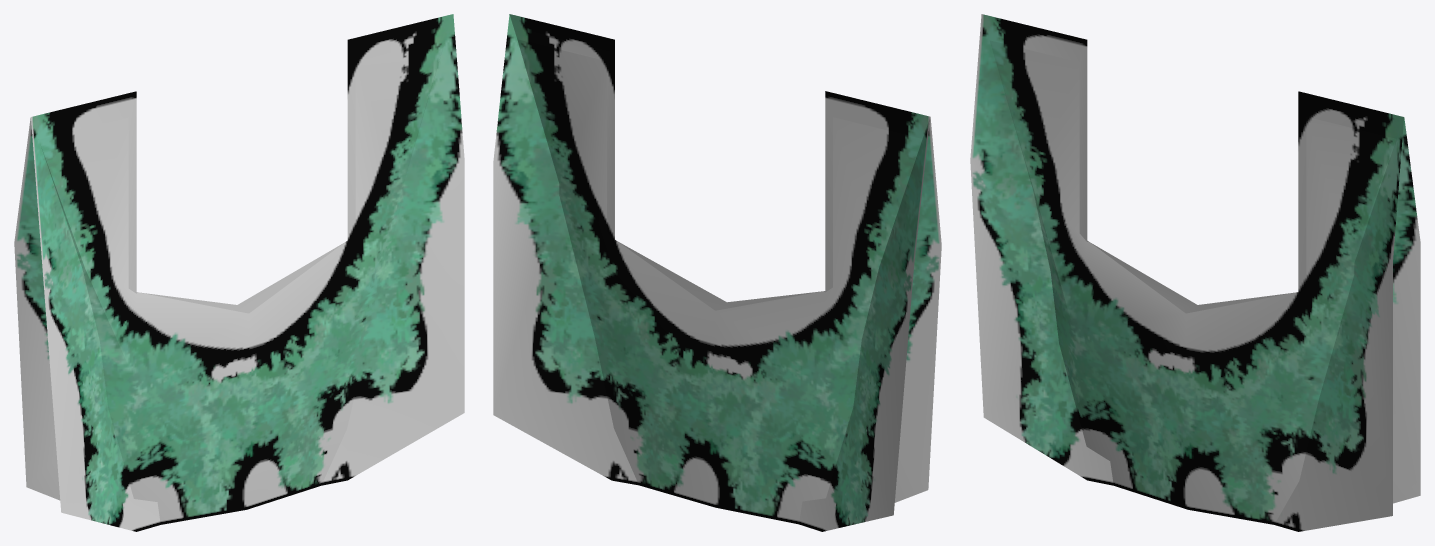
File: SM_ENV_plant_ancient_18_01.fbx
The picture shows the model from 3 angles, left to right: view 1: azimuth 30°, elevation 25°; view 2: azimuth 150°, elevation 25°; view 3: azimuth 330°, elevation 25°; orthographic projection.
Visible parts, largest first — view 1: SM_ENV_plant_ancient_18_01_LOD0; view 2: SM_ENV_plant_ancient_18_01_LOD0; view 3: SM_ENV_plant_ancient_18_01_LOD0.
Part boxes in pixels (x1,y1,x2,y2): SM_ENV_plant_ancient_18_01_LOD0: (14,14,464,531); SM_ENV_plant_ancient_18_01_LOD0: (493,14,941,531); SM_ENV_plant_ancient_18_01_LOD0: (970,14,1420,531).
Size of the model in its own units: 140 by 140 by 20.02.
